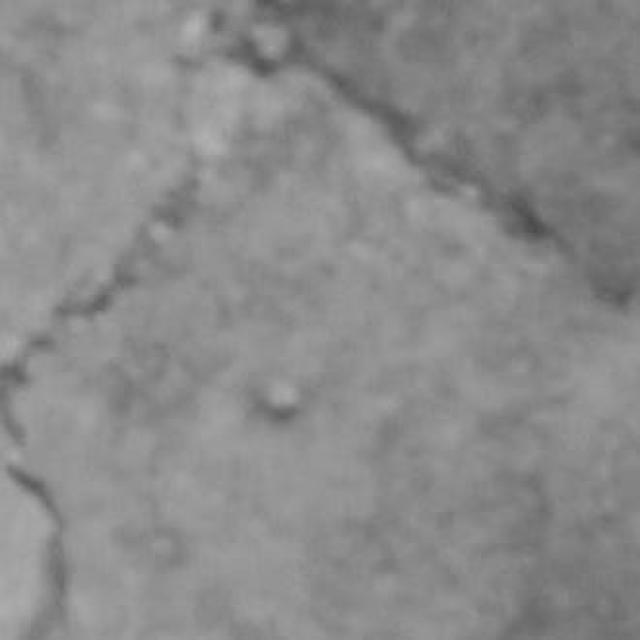crack: (229, 0, 636, 312), (0, 70, 199, 639)
